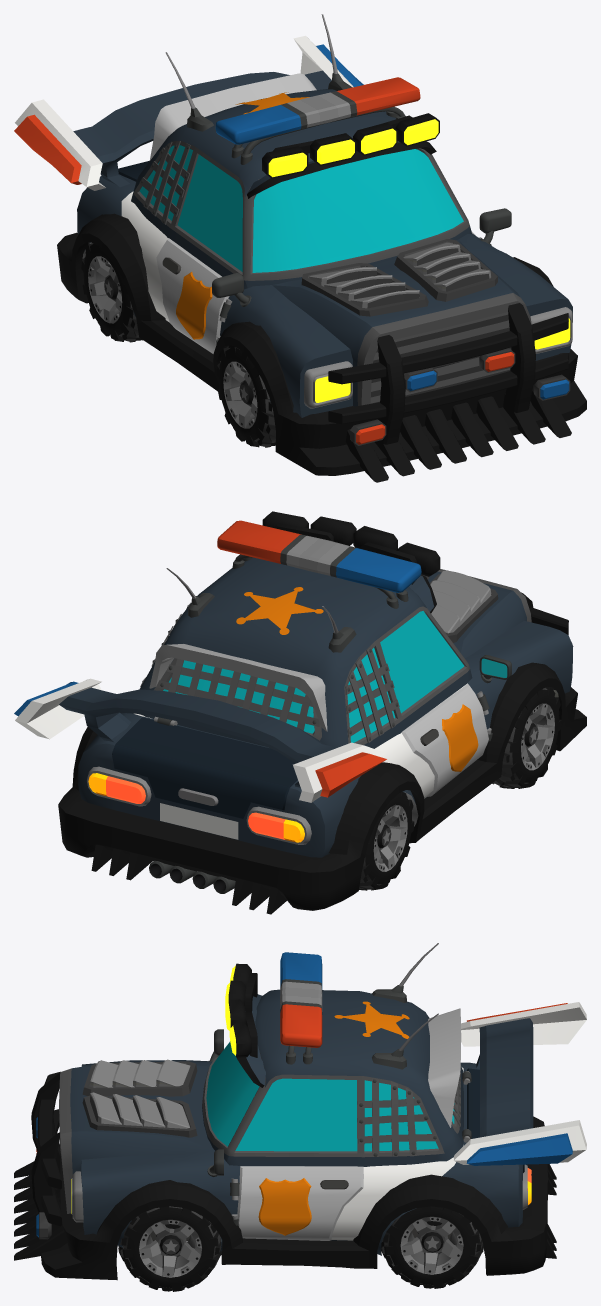
File: SVehicle05.fbx
3 views of the same model, one above another, from view 1: azimuth 30°, elevation 25°; view 2: azimuth 150°, elevation 25°; view 3: azimuth 270°, elevation 25° (orthographic). The views are drawn at different scales.
Visible parts, largest first — view 1: SVehicle05, SV5_Parts, SV5_Wheel_FR, SV5_Wheel_BR; view 2: SVehicle05, SV5_Parts, SV5_Wheel_FR, SV5_Wheel_BR; view 3: SVehicle05, SV5_Parts, SV5_Wheel_FL, SV5_Wheel_BL.
Boxes of the visible parts, box(x1,y1,x2,y2) form: SVehicle05: box(57, 14, 586, 482); SV5_Parts: box(14, 35, 570, 445); SV5_Wheel_FR: box(216, 345, 275, 447); SV5_Wheel_BR: box(81, 242, 142, 342); SVehicle05: box(58, 511, 586, 914); SV5_Parts: box(14, 520, 421, 802); SV5_Wheel_FR: box(492, 687, 561, 788); SV5_Wheel_BR: box(359, 792, 414, 890); SVehicle05: box(14, 943, 556, 1280); SV5_Parts: box(36, 952, 586, 1239); SV5_Wheel_FL: box(118, 1206, 222, 1291); SV5_Wheel_BL: box(381, 1206, 483, 1288).
Size of the model in its own units: 284 by 233 by 481.
Materials: 1 (1 with a texture image).
